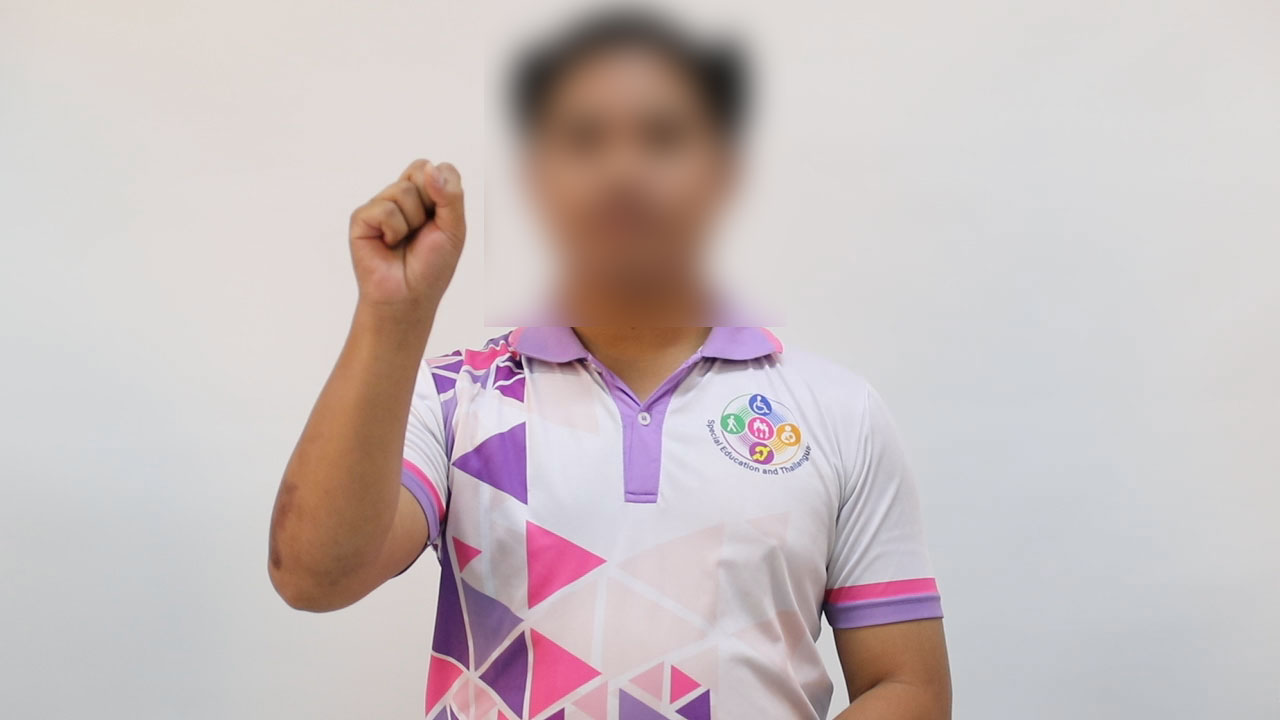sor: (321, 130, 487, 330)
